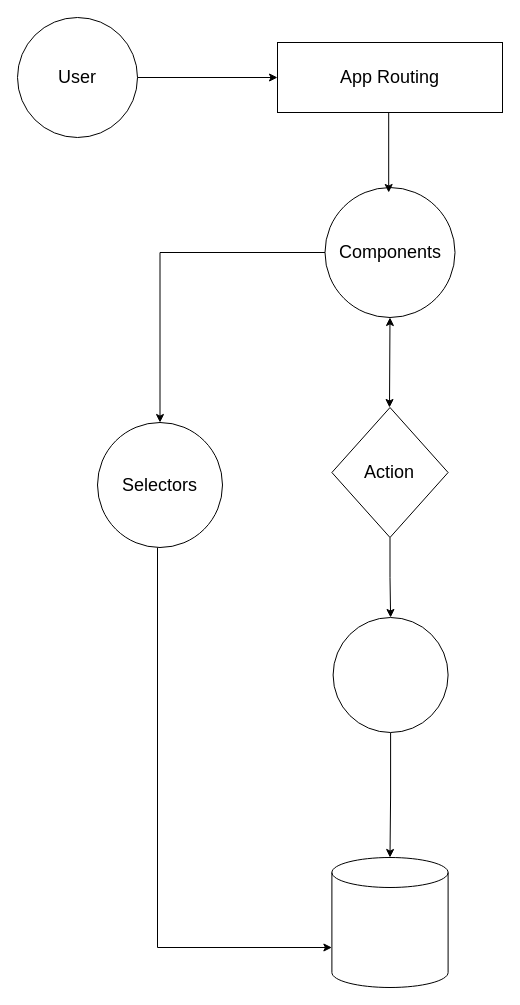
This 520x1005 diagram has some shape labels left out. The shapes that lost their labels are listed below. From the top down, each one's centre as x and y in pixels, then its label:
At [390,674]: "Reducers".
At [389,922]: "Redux/Store".
